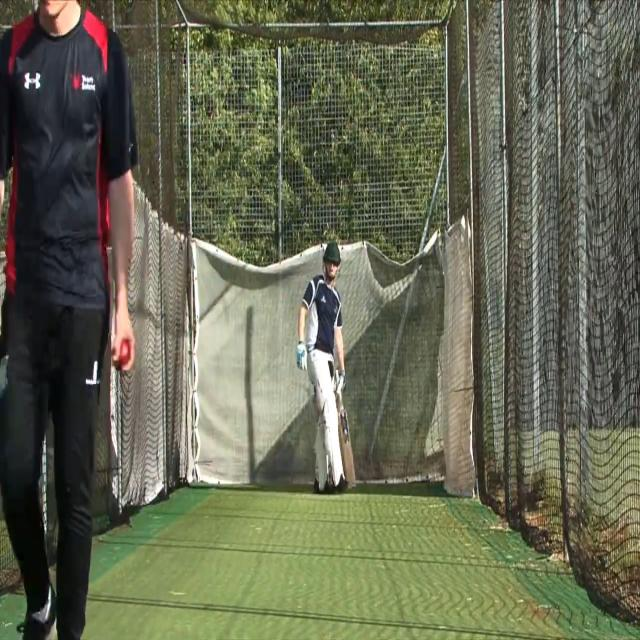batsman: (294, 239, 358, 497)
